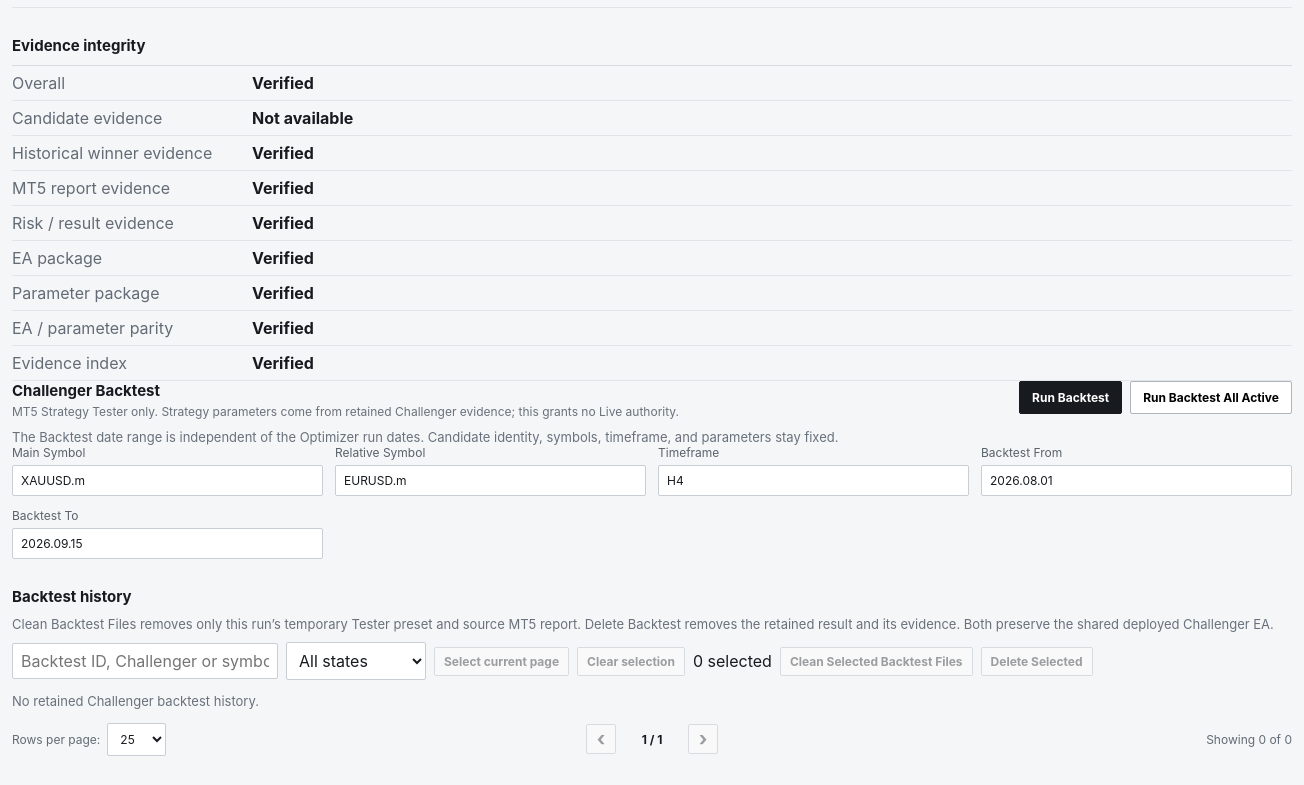
Test: M06 Strategy Challenger operations UI › blocks bulk Backtests before the first run if any active Challenger fails integrity preflight
(page scrolled)
Click the button "Run Backtest All Active": coordinates (1211, 398) [1130, 381, 1292, 414]
(page scrolled)
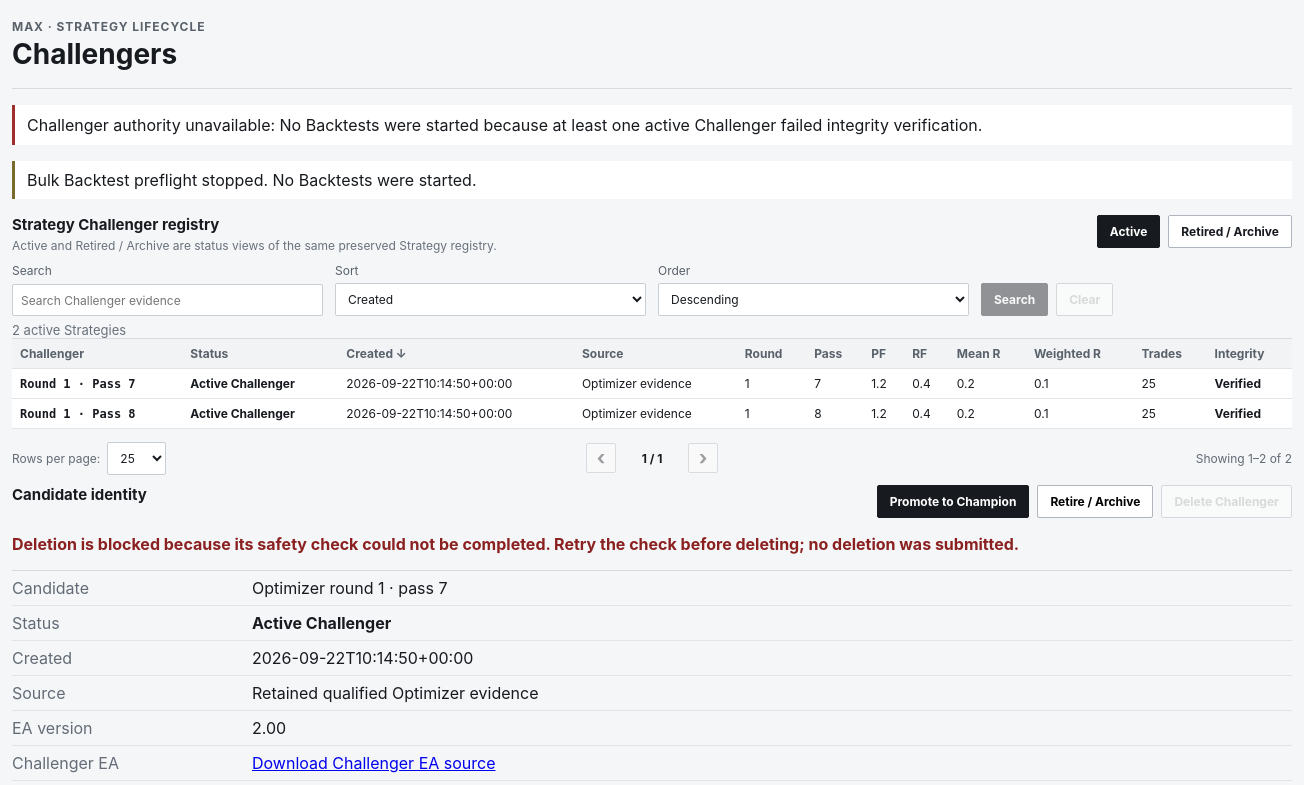
Expected: the message that starts with "Challenger authority unavailable:" shows "No Backtests were started because at least one active Challenger failed integrity verification.", [280, 115, 982, 135]
